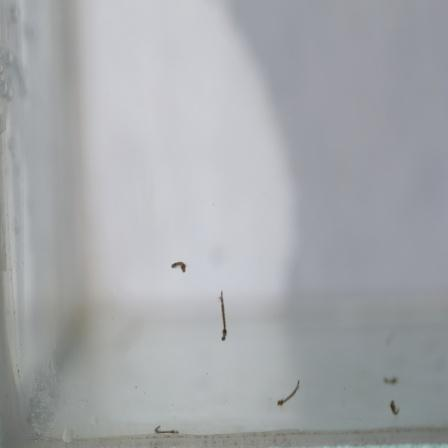Jentik-Nyamuk: (216, 291, 233, 344), (168, 259, 188, 275)
